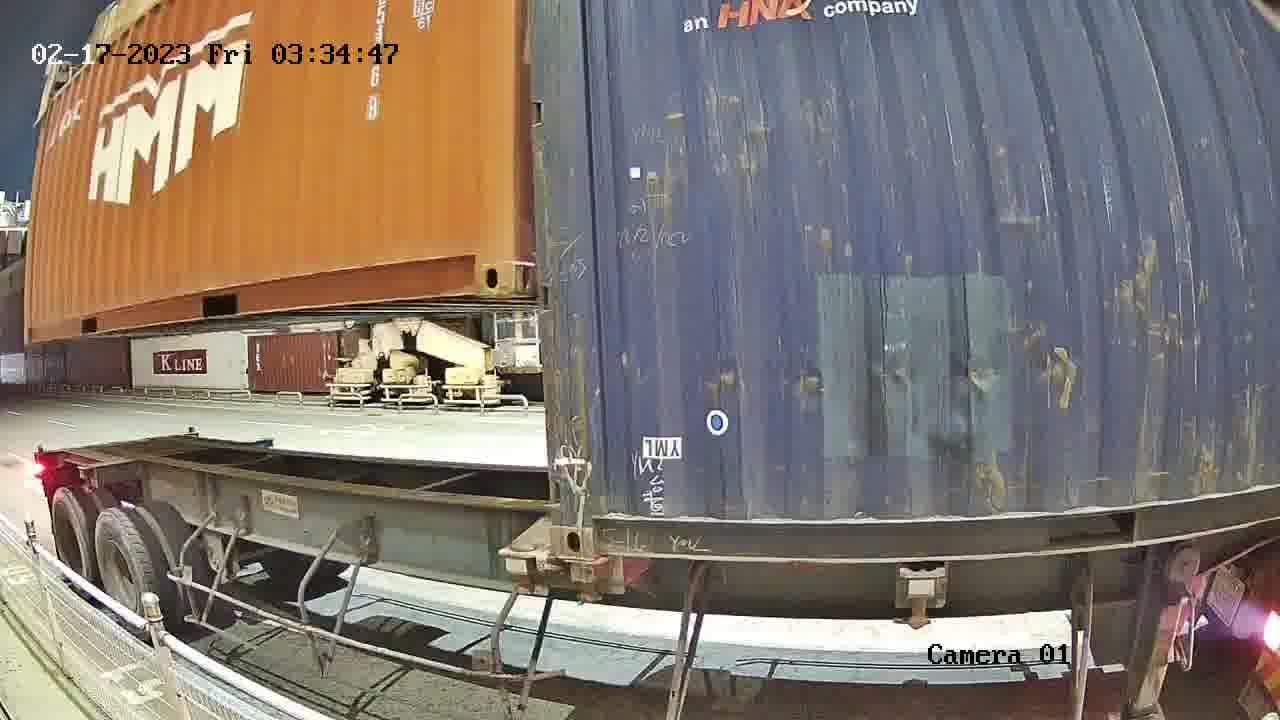Cone: (558, 558, 605, 606), (501, 542, 542, 597)
Hole_L: (552, 488, 626, 557)
Hole_R: (438, 224, 514, 297)
Tire: (92, 514, 156, 634), (49, 490, 97, 596)
